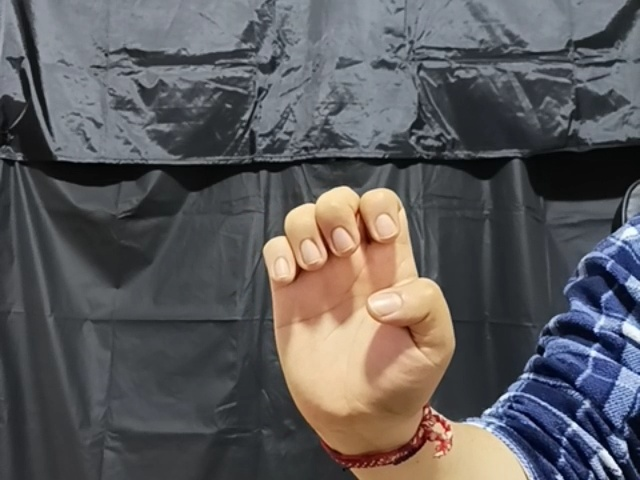E: (255, 181, 461, 422)
